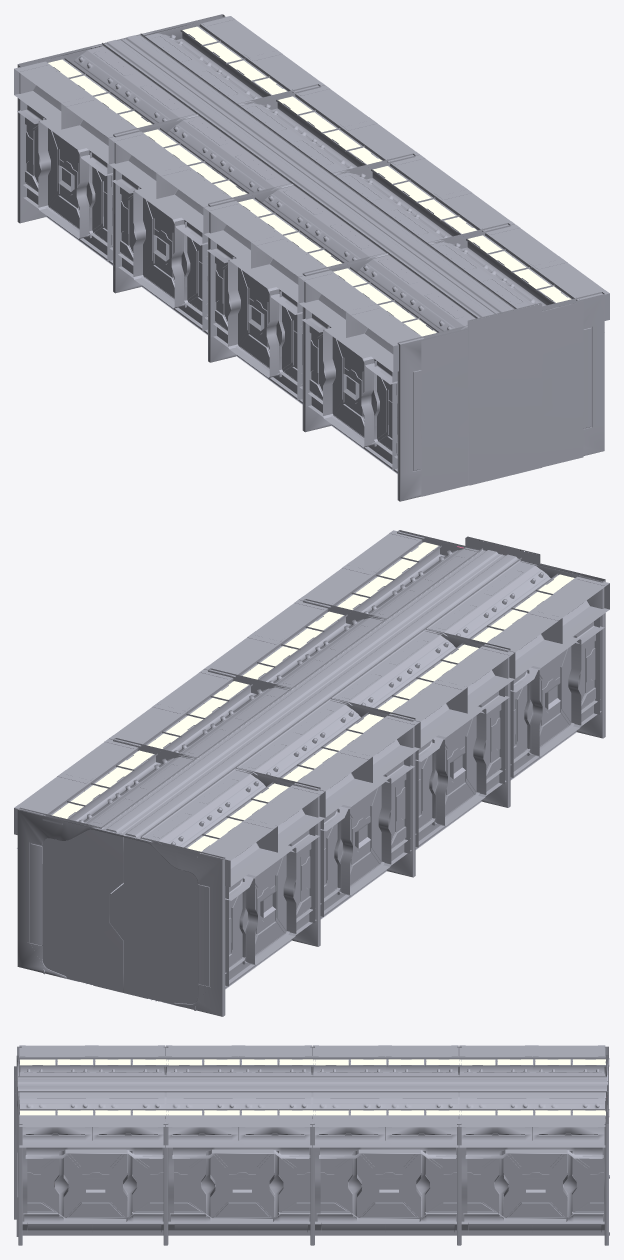
Rendered from corridor.glb.
3 renders of one model, top to bottom at view 1: azimuth 30°, elevation 25°; view 2: azimuth 150°, elevation 25°; view 3: azimuth 270°, elevation 25°, orthographic. The views are drawn at different scales.
Visible parts, largest first — view 1: corridorMetal, door, pillars, exteriorStrips, door1.1; view 2: corridorMetal, exteriorStrips, door2Right, door2Left, pillars, door1.1; view 3: corridorMetal, exteriorStrips, pillars, interiorStrips, door1.1, door.
Boxes of the visible parts, left/top/right/bottom form: corridorMetal: left=14, top=14, right=609, bottom=473; door: left=420, top=301, right=583, bottom=496; pillars: left=113, top=84, right=604, bottom=501; exteriorStrips: left=48, top=25, right=573, bottom=336; door1.1: left=467, top=303, right=542, bottom=485; corridorMetal: left=14, top=530, right=609, bottom=1016; exteriorStrips: left=42, top=541, right=574, bottom=857; door2Right: left=110, top=836, right=205, bottom=1004; door2Left: left=42, top=816, right=123, bottom=992; pillars: left=113, top=530, right=605, bottom=946; door1.1: left=465, top=536, right=540, bottom=564; corridorMetal: left=18, top=1045, right=609, bottom=1245; exteriorStrips: left=19, top=1058, right=609, bottom=1116; pillars: left=17, top=1046, right=461, bottom=1245; interiorStrips: left=37, top=1072, right=597, bottom=1098; door1.1: left=14, top=1066, right=17, bottom=1219; door: left=16, top=1055, right=20, bottom=1236.
Bounding box in the file's own units: 9.46 × 6.9 × 29.15.
